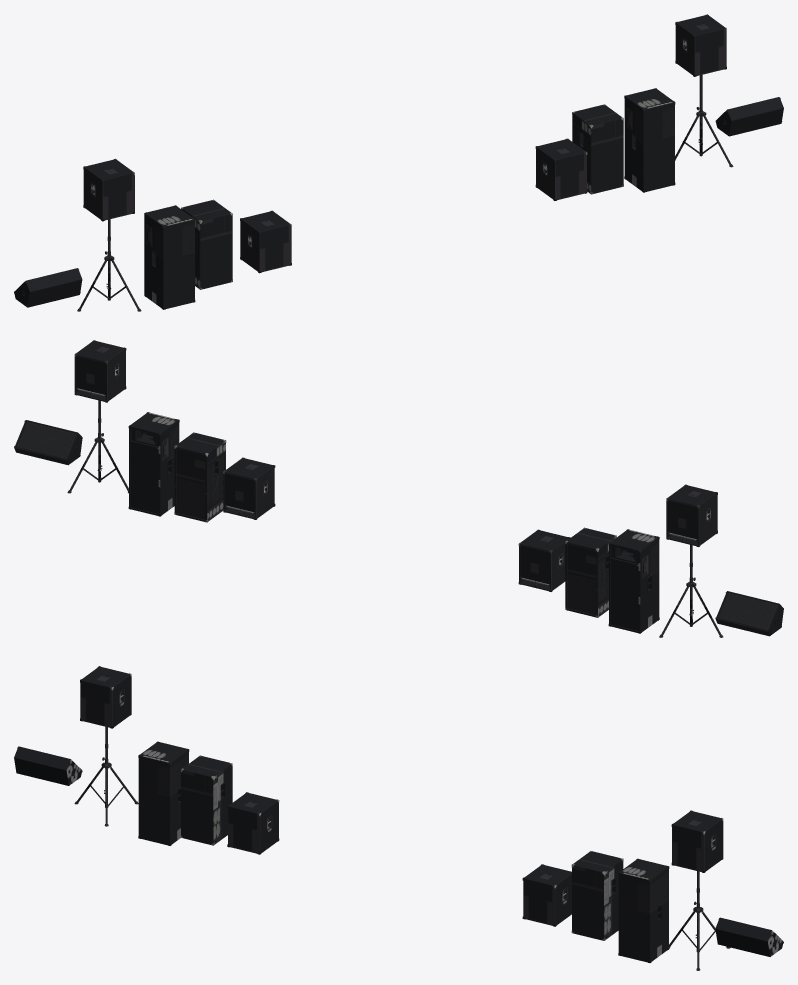
3 renders of one model, top to bottom at view 1: azimuth 30°, elevation 25°; view 2: azimuth 150°, elevation 25°; view 3: azimuth 330°, elevation 25°, orthographic.
Parts seen in each view (by area): view 1: Speakers04 (1), Speakers04, Speakers03 (1), Speakers03, Speakers02, Speakers02 (1), Speakers02 (3), Speakers02 (2), Speakers01, Speakers01 (1), SpeakerTripod01 (1), SpeakerTripod01; view 2: Speakers04, Speakers04 (1), Speakers03 (1), Speakers03, Speakers02 (3), Speakers02 (2), Speakers02 (1), Speakers02, Speakers01, Speakers01 (1), SpeakerTripod01, SpeakerTripod01 (1); view 3: Speakers04 (1), Speakers04, Speakers03, Speakers03 (1), Speakers02 (3), Speakers02 (1), Speakers02, Speakers02 (2), Speakers01, Speakers01 (1), SpeakerTripod01, SpeakerTripod01 (1).
Part boxes in pixels (x1,y1,x2,y2): Speakers04 (1): (624, 88, 675, 192); Speakers04: (144, 205, 195, 309); Speakers03 (1): (572, 104, 623, 194); Speakers03: (181, 199, 232, 289); Speakers02: (240, 210, 291, 273); Speakers02 (1): (83, 158, 134, 221); Speakers02 (3): (675, 14, 726, 76); Speakers02 (2): (535, 138, 587, 200); Speakers01: (14, 268, 82, 307); Speakers01 (1): (715, 97, 783, 136); SpeakerTripod01 (1): (675, 74, 733, 167); SpeakerTripod01: (77, 219, 141, 311); Speakers04: (608, 529, 659, 633); Speakers04 (1): (128, 412, 179, 516); Speakers03 (1): (174, 432, 226, 522); Speakers03: (565, 527, 616, 617); Speakers02 (3): (74, 340, 126, 402); Speakers02 (2): (223, 457, 275, 519); Speakers02 (1): (666, 484, 717, 546); Speakers02: (518, 529, 570, 591); Speakers01: (715, 591, 783, 636); Speakers01 (1): (14, 420, 82, 465); SpeakerTripod01: (659, 545, 723, 637); SpeakerTripod01 (1): (67, 400, 128, 493); Speakers04 (1): (618, 858, 669, 962); Speakers04: (138, 741, 189, 845); Speakers03: (181, 755, 232, 845); Speakers03 (1): (571, 851, 623, 940); Speakers02 (3): (671, 810, 723, 872); Speakers02 (1): (80, 666, 131, 728); Speakers02: (227, 792, 279, 854); Speakers02 (2): (522, 864, 571, 926); Speakers01: (14, 746, 82, 785); Speakers01 (1): (715, 917, 783, 956); SpeakerTripod01: (74, 726, 138, 826); SpeakerTripod01 (1): (666, 871, 730, 970).
Size of the model in its own units: 1440 by 262 by 106.
